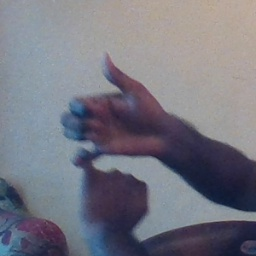S: (53, 48, 165, 228)
